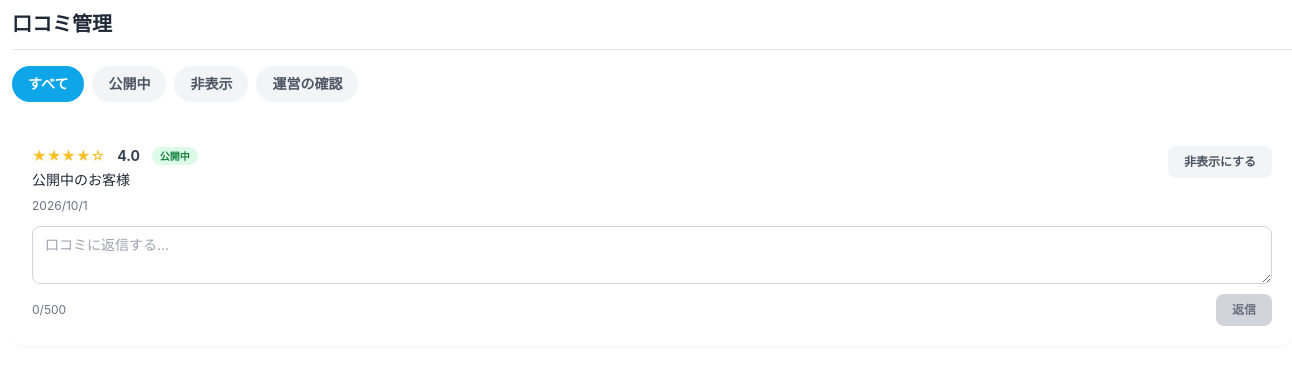
Test: 公開・非表示の切り替え › 非表示にすると status だけを更新し、一覧を読み直さない
Click the button "非表示にする".
click(1220, 162)  # box [1168,146,1272,178]
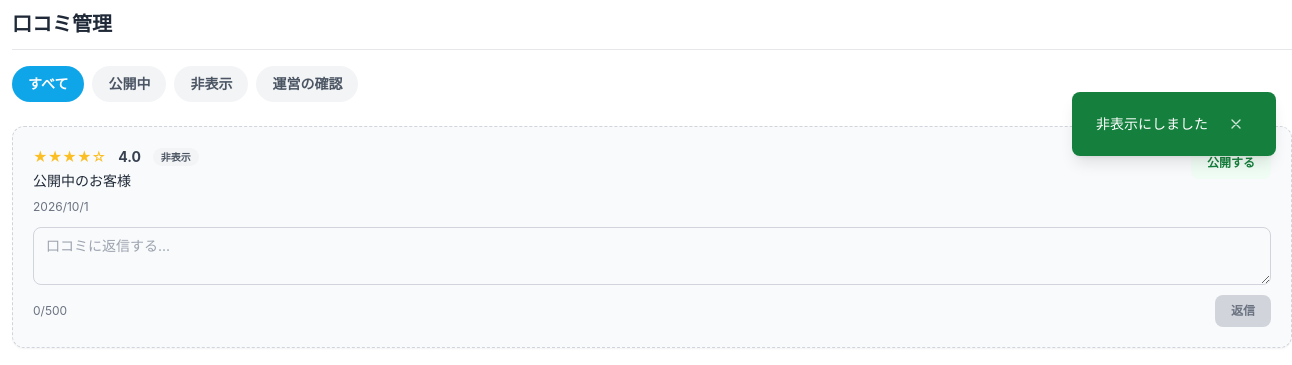
Expected: the button "公開する" is enabled, [1191,147,1271,179]
Expected: the text "非表示にしました" is shown, [1096,114,1208,134]
